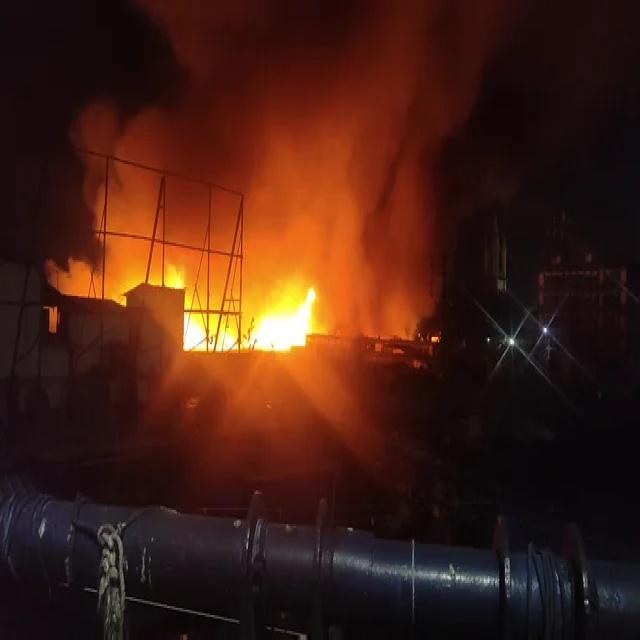fire: (253, 287, 315, 352)
